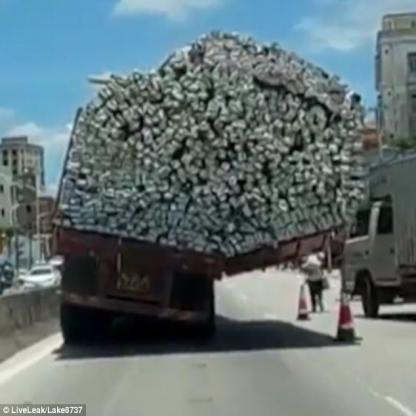overloaded-truck: (50, 47, 354, 246)
